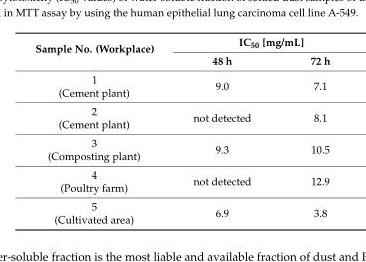table: (34, 35, 329, 225)
table column: (34, 35, 172, 225), (172, 35, 280, 225), (280, 35, 329, 225)
table column header: (34, 35, 329, 69)
table row: (34, 69, 329, 101), (34, 101, 329, 133), (34, 164, 329, 196), (34, 133, 329, 164), (34, 196, 329, 225), (34, 51, 329, 69), (34, 35, 329, 51)
table spanning cell: (34, 35, 172, 69), (172, 35, 329, 51)
